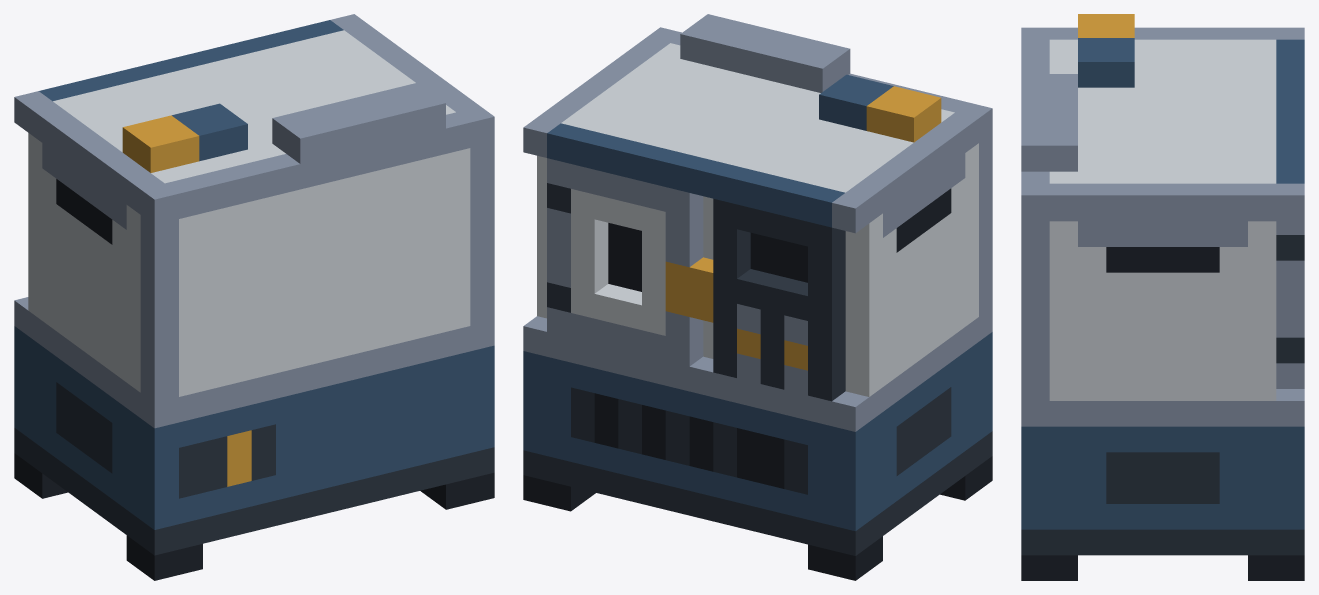
Rendered from env_chamber_cart.glb.
3 renders of one model, left to right at view 1: azimuth 30°, elevation 25°; view 2: azimuth 150°, elevation 25°; view 3: azimuth 270°, elevation 25°, orthographic. The views are drawn at different scales.
Parts seen in each view (by area): view 1: prop; view 2: prop; view 3: prop.
Boxes of the visible parts, <box> form: prop: <box>14,14,494,580</box>; prop: <box>523,14,992,580</box>; prop: <box>1021,14,1304,580</box>.
Bounding box in the file's own units: 14 × 16 × 10.
